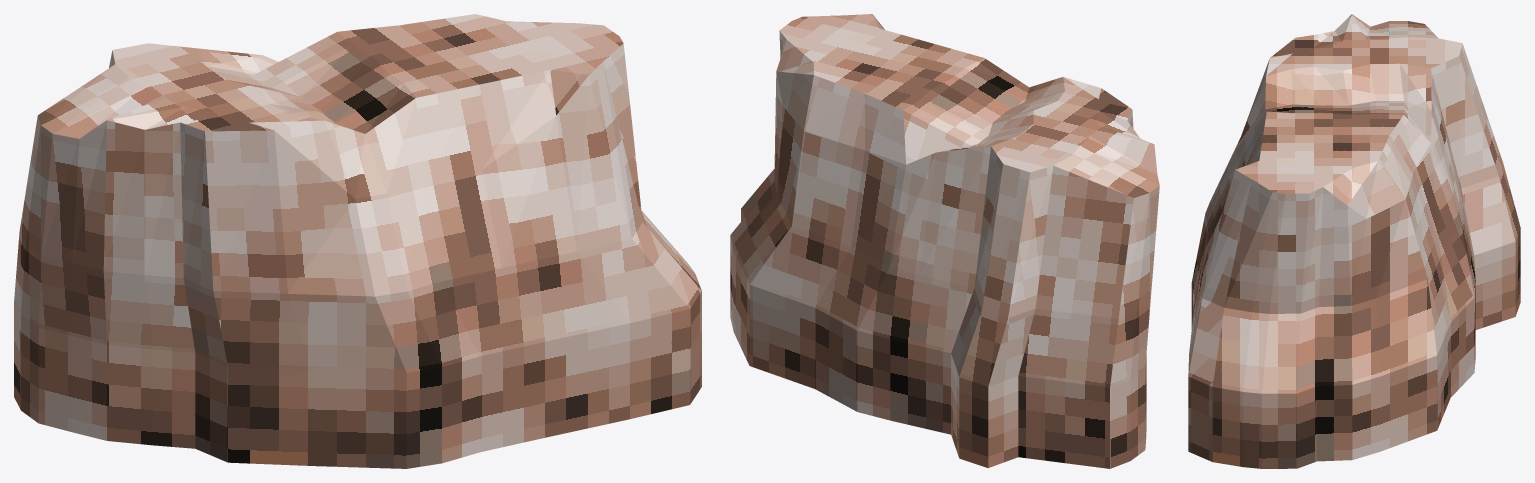
The model's file is Rock_341x01.gltf.
The picture shows the model from 3 angles, left to right: view 1: azimuth 30°, elevation 25°; view 2: azimuth 150°, elevation 25°; view 3: azimuth 270°, elevation 25°; orthographic projection. The views are drawn at different scales.
Visible parts, largest first — view 1: Rock_341x01; view 2: Rock_341x01; view 3: Rock_341x01.
Part boxes in pixels (bbox=[...]): Rock_341x01: bbox=[14, 14, 701, 468]; Rock_341x01: bbox=[730, 14, 1159, 468]; Rock_341x01: bbox=[1188, 14, 1520, 468].
Size of the model in its own units: 2.86 by 1.6 by 1.89.
1 material, 1 textured.
